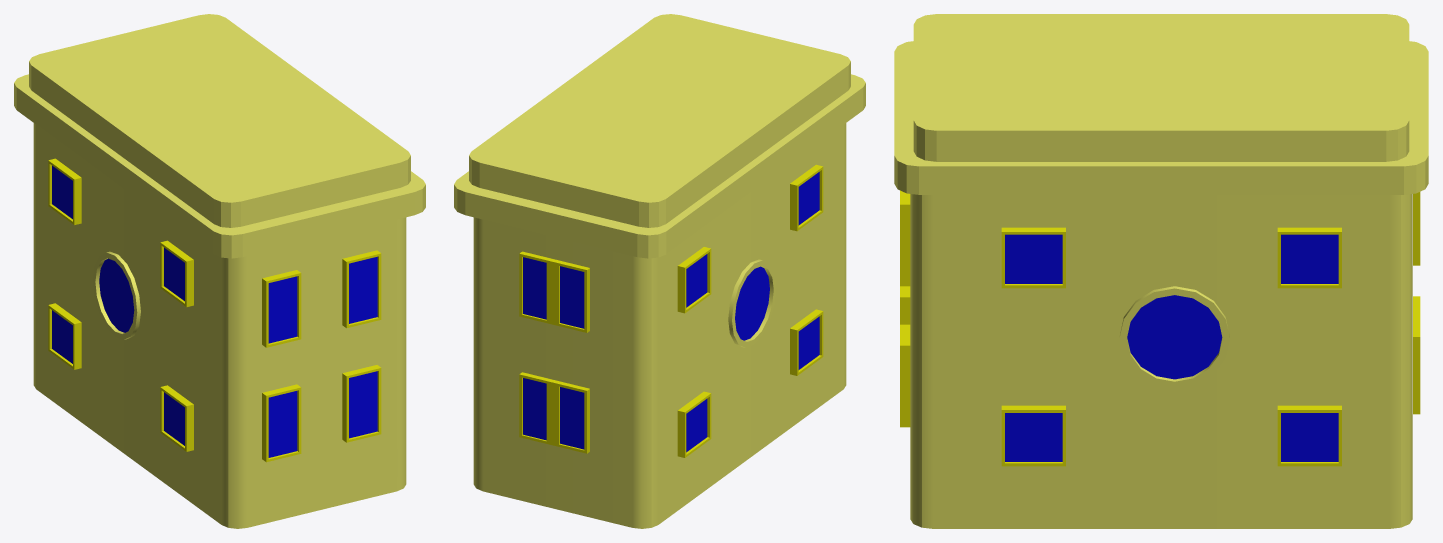
The picture shows the model from 3 angles, left to right: view 1: azimuth 30°, elevation 25°; view 2: azimuth 150°, elevation 25°; view 3: azimuth 270°, elevation 25°; orthographic projection. The views are drawn at different scales.
Visible parts, largest first — view 1: pCube50, pTorus1, polySurface49, polySurface104, polySurface105, polySurface48, polySurface43, polySurface46, polySurface47, polySurface45; view 2: pCube50, pCube69, pCube70, pTorus1, polySurface46, polySurface47, polySurface43, polySurface45; view 3: pCube50, pTorus1, polySurface43, polySurface46, polySurface47, polySurface45, polySurface105, polySurface104, pCube70.
Boxes of the visible parts, x1,y1,x2,y2 form: pCube50: (14, 14, 425, 528); pTorus1: (92, 251, 140, 339); polySurface49: (262, 384, 301, 462); polySurface104: (342, 250, 381, 328); polySurface105: (342, 365, 381, 442); polySurface48: (262, 270, 301, 347); polySurface43: (160, 240, 193, 307); polySurface46: (48, 158, 81, 224); polySurface47: (48, 303, 81, 369); polySurface45: (160, 385, 193, 451); pCube50: (454, 14, 865, 528); pCube69: (519, 251, 589, 332); pCube70: (519, 372, 589, 453); pTorus1: (728, 259, 776, 347); polySurface46: (677, 247, 711, 313); polySurface47: (677, 391, 711, 457); polySurface43: (790, 164, 823, 231); polySurface45: (790, 309, 823, 375); pCube50: (894, 14, 1428, 528); pTorus1: (1119, 286, 1229, 388); polySurface43: (1001, 227, 1065, 288); polySurface46: (1277, 227, 1341, 288); polySurface47: (1277, 405, 1341, 466); polySurface45: (1001, 405, 1065, 466); polySurface105: (900, 324, 910, 427); polySurface104: (900, 190, 910, 286); pCube70: (1413, 296, 1420, 414).
Size of the model in its own units: 3391 by 5044 by 6080.
